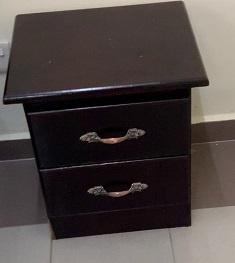cabinet_door: (34, 104, 188, 158), (46, 160, 191, 212)
handle: (79, 128, 148, 149), (87, 181, 149, 202)
